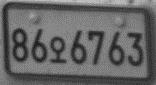3: (126, 31, 143, 67)
6: (106, 31, 125, 66), (30, 27, 48, 62), (69, 29, 87, 64)
7: (86, 28, 105, 66)
8: (11, 26, 29, 62)
오: (48, 35, 68, 64)
